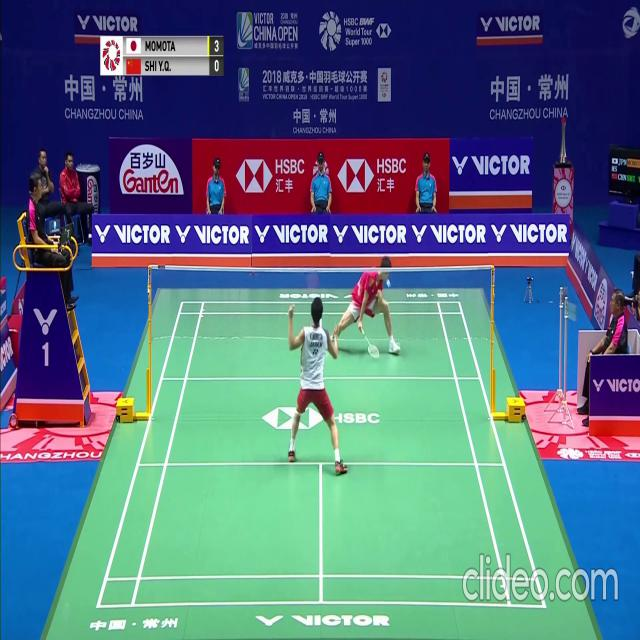Shuttlecock: (386, 280, 391, 287)
